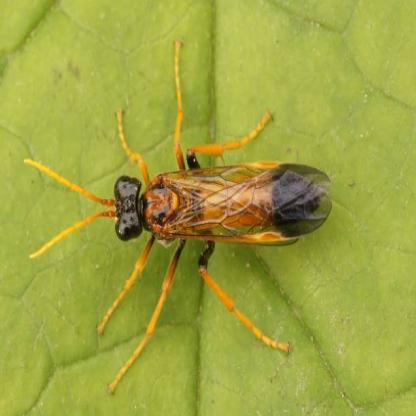sawfly: (23, 33, 338, 395)
